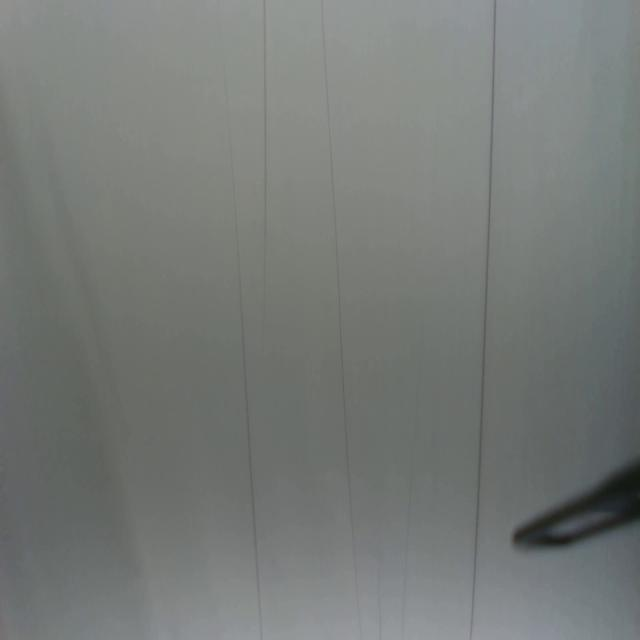crease: (318, 0, 362, 640), (220, 76, 262, 640), (466, 0, 500, 639), (259, 0, 270, 276)
